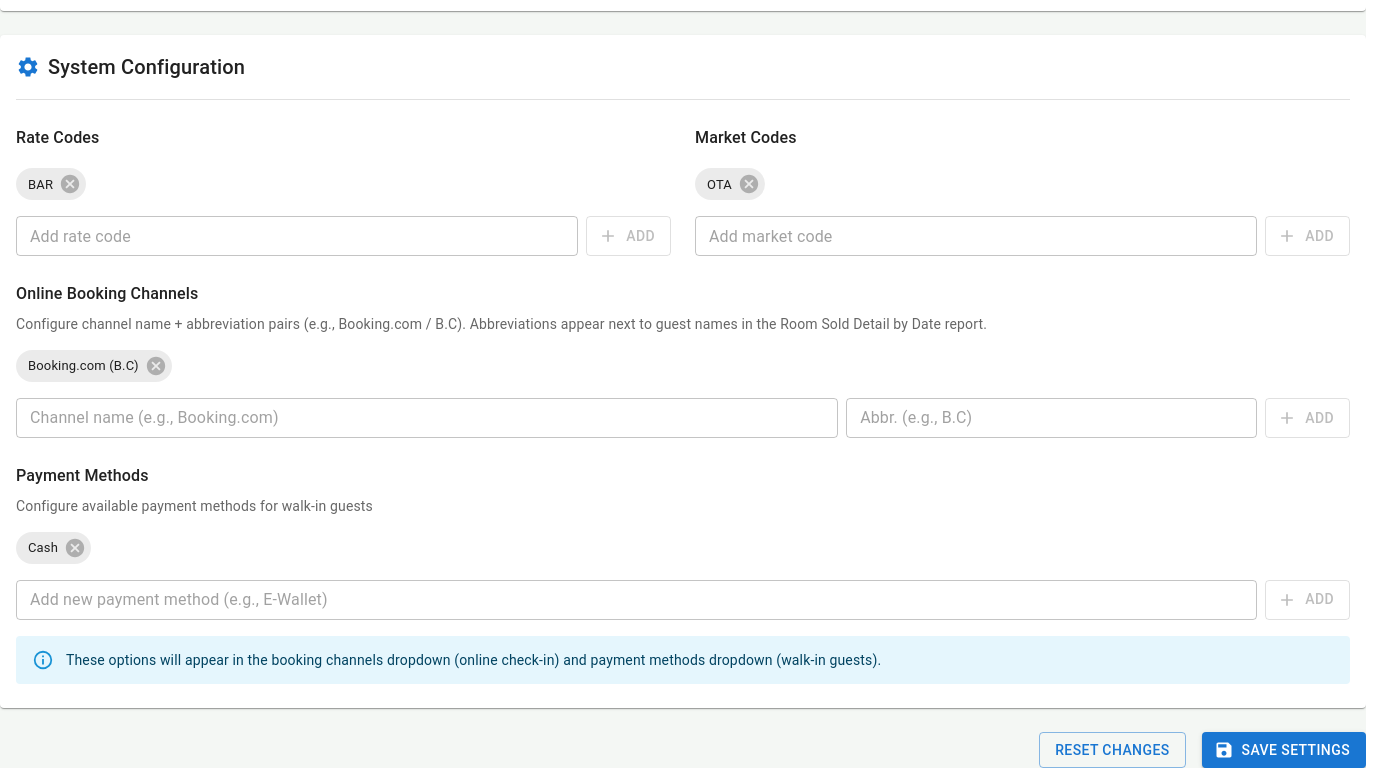
Test: SettingsPage › surfaces a failed save as an error alert instead of the success banner
(page scrolled)
Step 1. Click the button "Save Settings" → (1284, 750), box [1202, 732, 1366, 767]
(page scrolled)
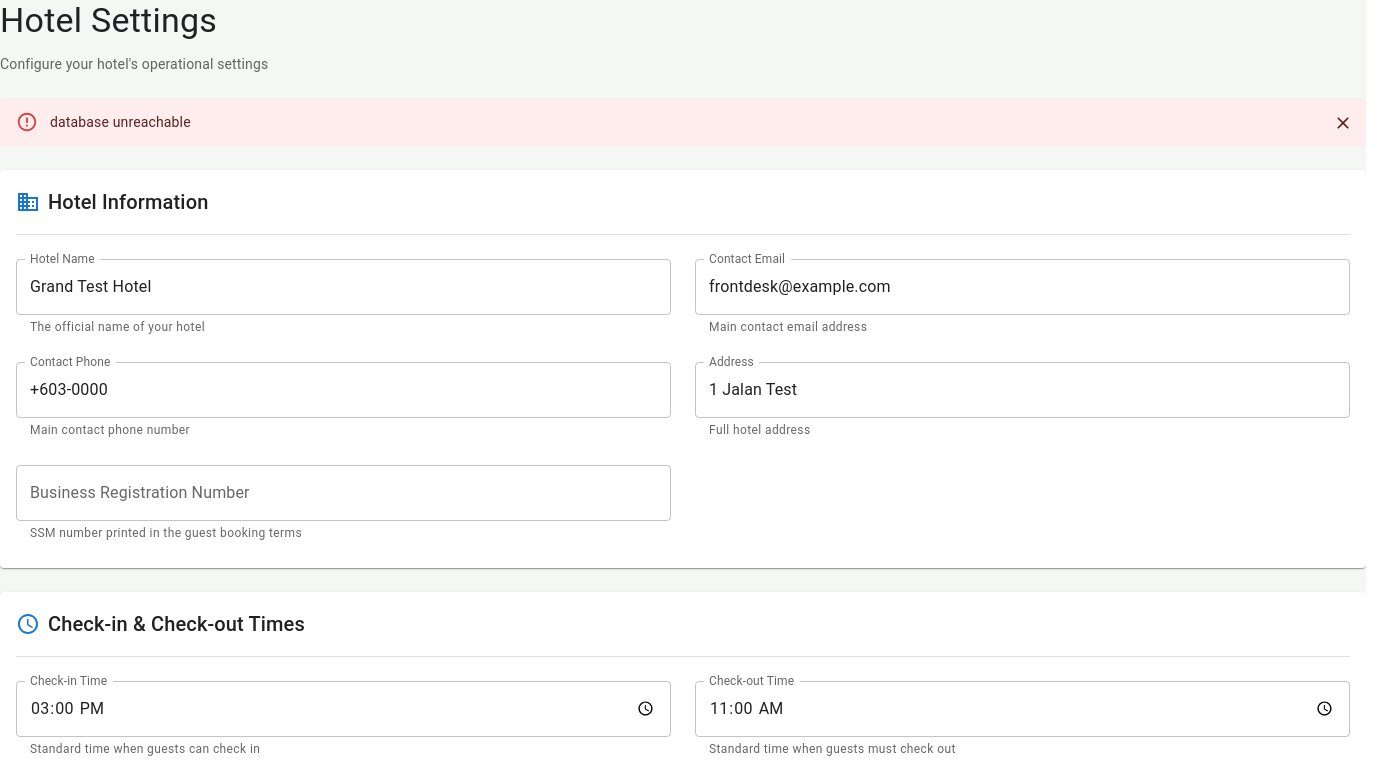
Expected: the text "database unreachable" is shown, [50, 114, 191, 130]
